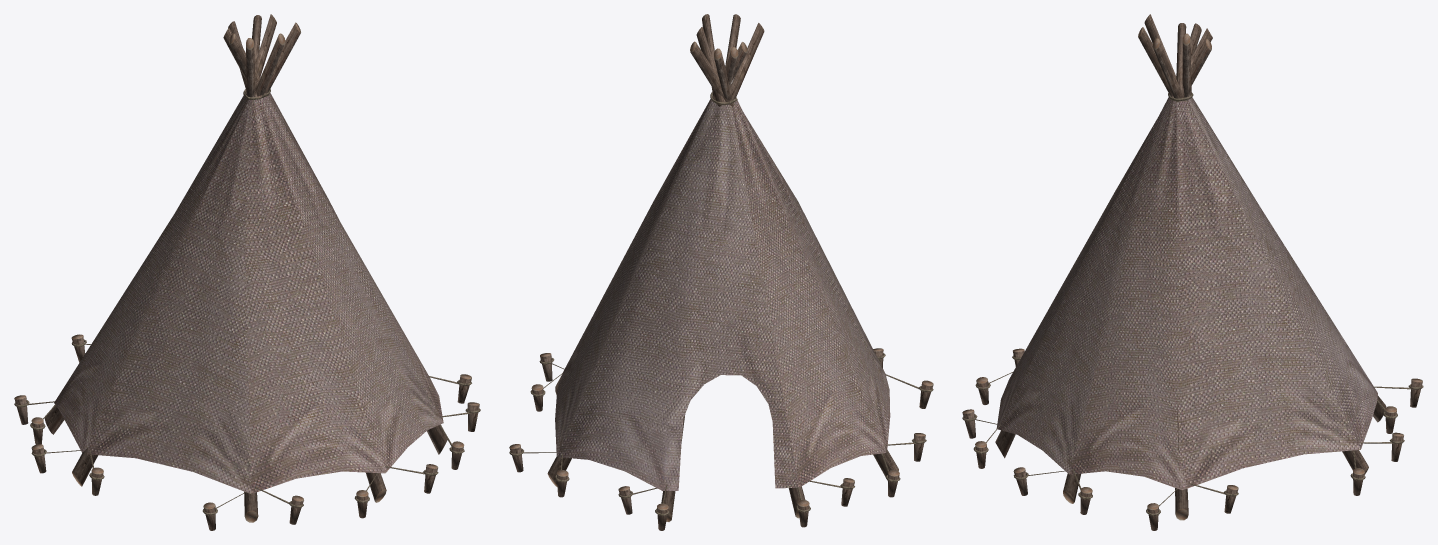
Rendered from hut6.fbx.
The picture shows the model from 3 angles, left to right: view 1: azimuth 30°, elevation 25°; view 2: azimuth 150°, elevation 25°; view 3: azimuth 270°, elevation 25°; orthographic projection. The views are drawn at different scales.
Parts seen in each view (by area): view 1: Cylinder_001, Cylinder, Cylinder_087, wood1; view 2: Cylinder_001, Cylinder, Cylinder_087, wood1; view 3: Cylinder_001, Cylinder, Cylinder_087, wood1.
Boxes of the visible parts, x1,y1,x2,y2 form: Cylinder_001: (54, 93, 443, 494); Cylinder: (55, 93, 442, 492); Cylinder_087: (44, 14, 447, 522); wood1: (14, 334, 480, 530); Cylinder_001: (555, 95, 890, 490); Cylinder: (555, 99, 889, 487); Cylinder_087: (547, 14, 898, 521); wood1: (509, 348, 933, 530); Cylinder_001: (996, 97, 1377, 490); Cylinder: (997, 99, 1377, 488); Cylinder_087: (995, 14, 1386, 520); wood1: (962, 348, 1423, 530).
Size of the model in its own units: 140 by 140 by 141.
